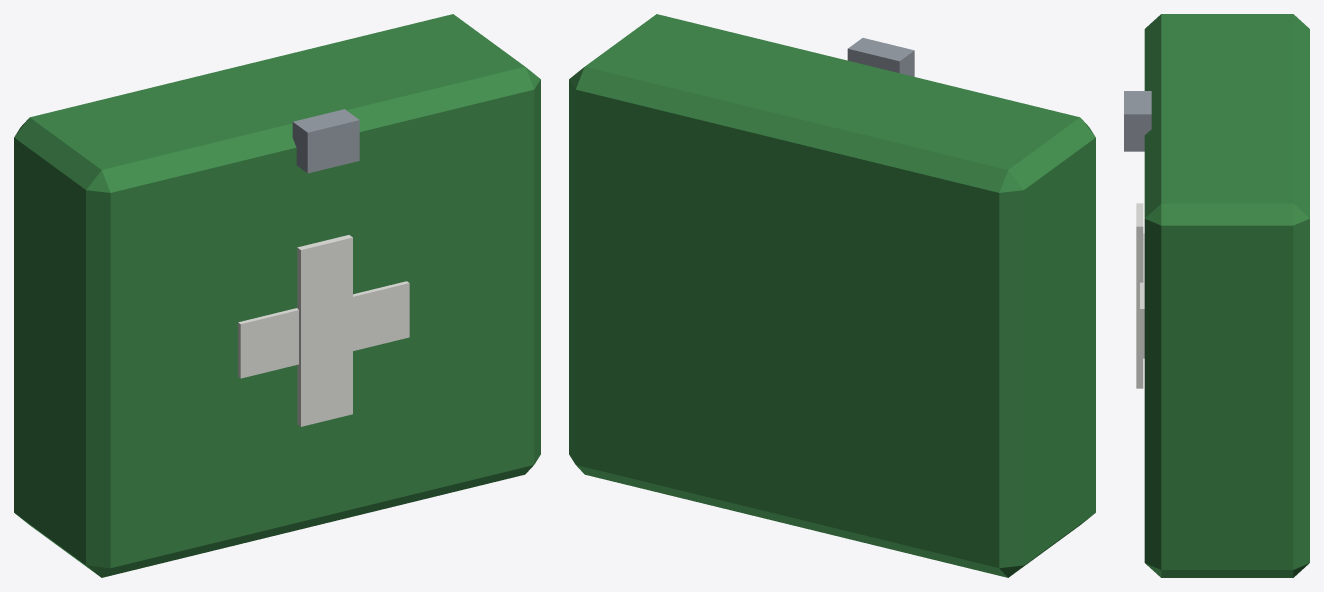
File: First_Aid_Box.fbx
3 renders of one model, left to right at view 1: azimuth 30°, elevation 25°; view 2: azimuth 150°, elevation 25°; view 3: azimuth 270°, elevation 25°, orthographic. The views are drawn at different scales.
Parts seen in each view (by area): view 1: First_Aid_Box; view 2: First_Aid_Box; view 3: First_Aid_Box.
Boxes of the visible parts, x1,y1,x2,y2 form: First_Aid_Box: (14, 14, 540, 577); First_Aid_Box: (569, 14, 1095, 577); First_Aid_Box: (1124, 14, 1309, 577).
Bounding box in the file's own units: 0.35 × 0.305 × 0.135.
Materials: 1 (1 with a texture image).
